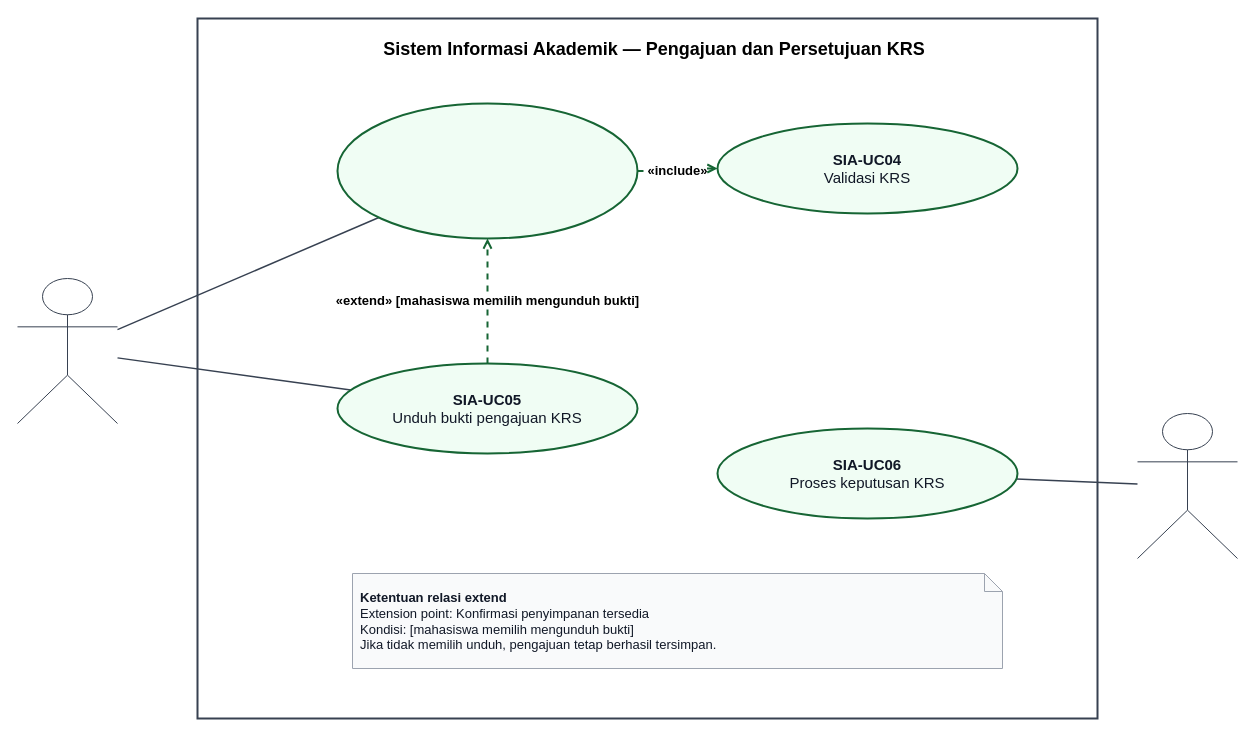
The diagram is 1255 pixels wide and 736 high, and some of its shapes have lost their labels. Each missing label, with the centre of its shape:
"Dosen wali" belongs at (1187,485).
"Mahasiswa" belongs at (67,351).
"SIA-UC03 Ajukan KRS extension points: Konfirmasi penyimpanan tersedia" belongs at (487,170).
